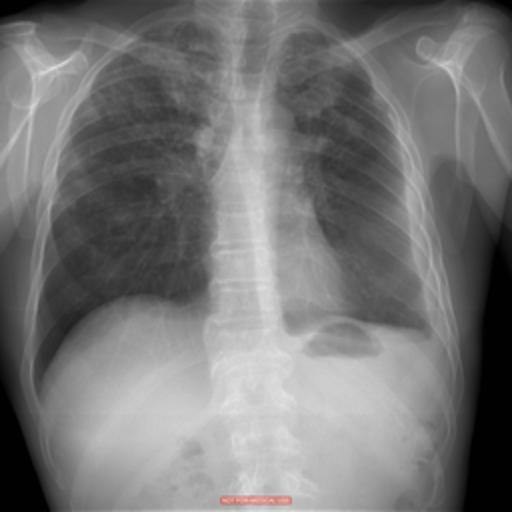TB: (139, 32, 201, 121), (293, 52, 350, 130)
